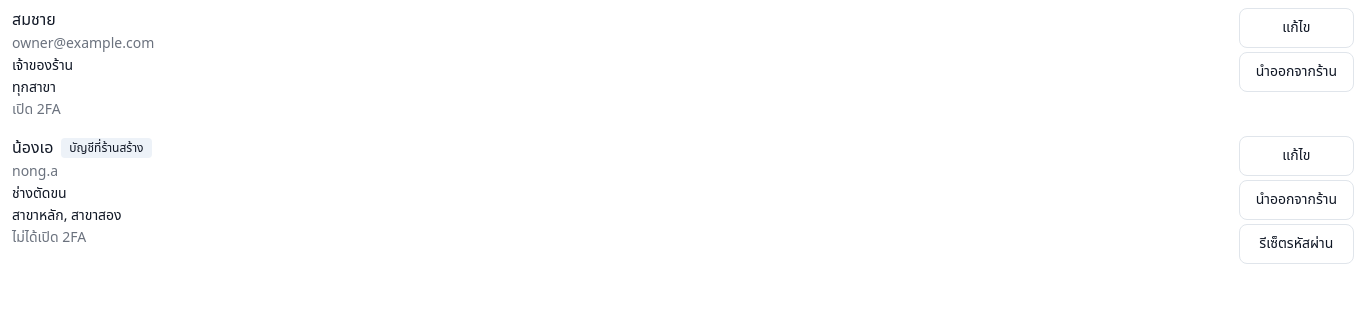
Test: remove (#contract-staff-remove, F09) › NOT_FOUND → its message in the row
The image size is (1366, 309).
Expected: the text "น้องเอ" is shown, [12,136,53,160]
What coordinates should you click on to do the following:
click the button "นำออกจากร้าน" in the row of "เจ้าของร้าน"
I would click on:
 (1296, 72)
Its box is [1239,52,1354,92].
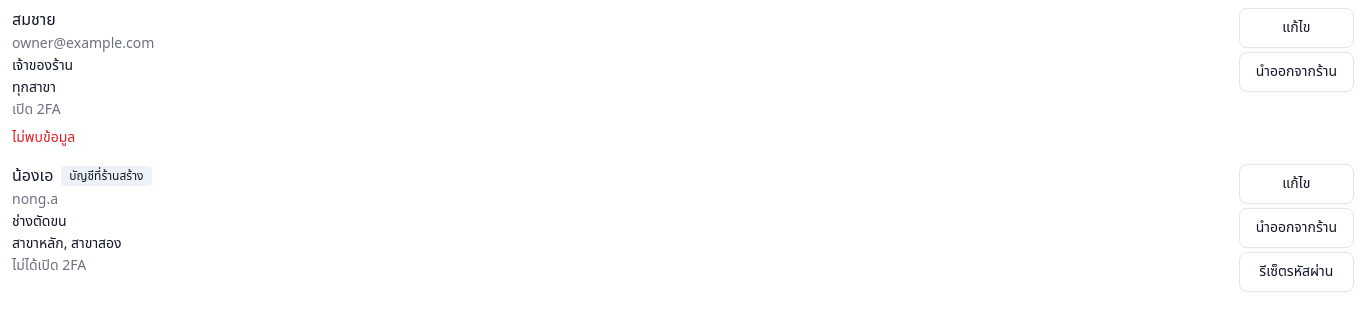
Result: the text "ไม่พบข้อมูล" is shown at [12,127,75,148]
